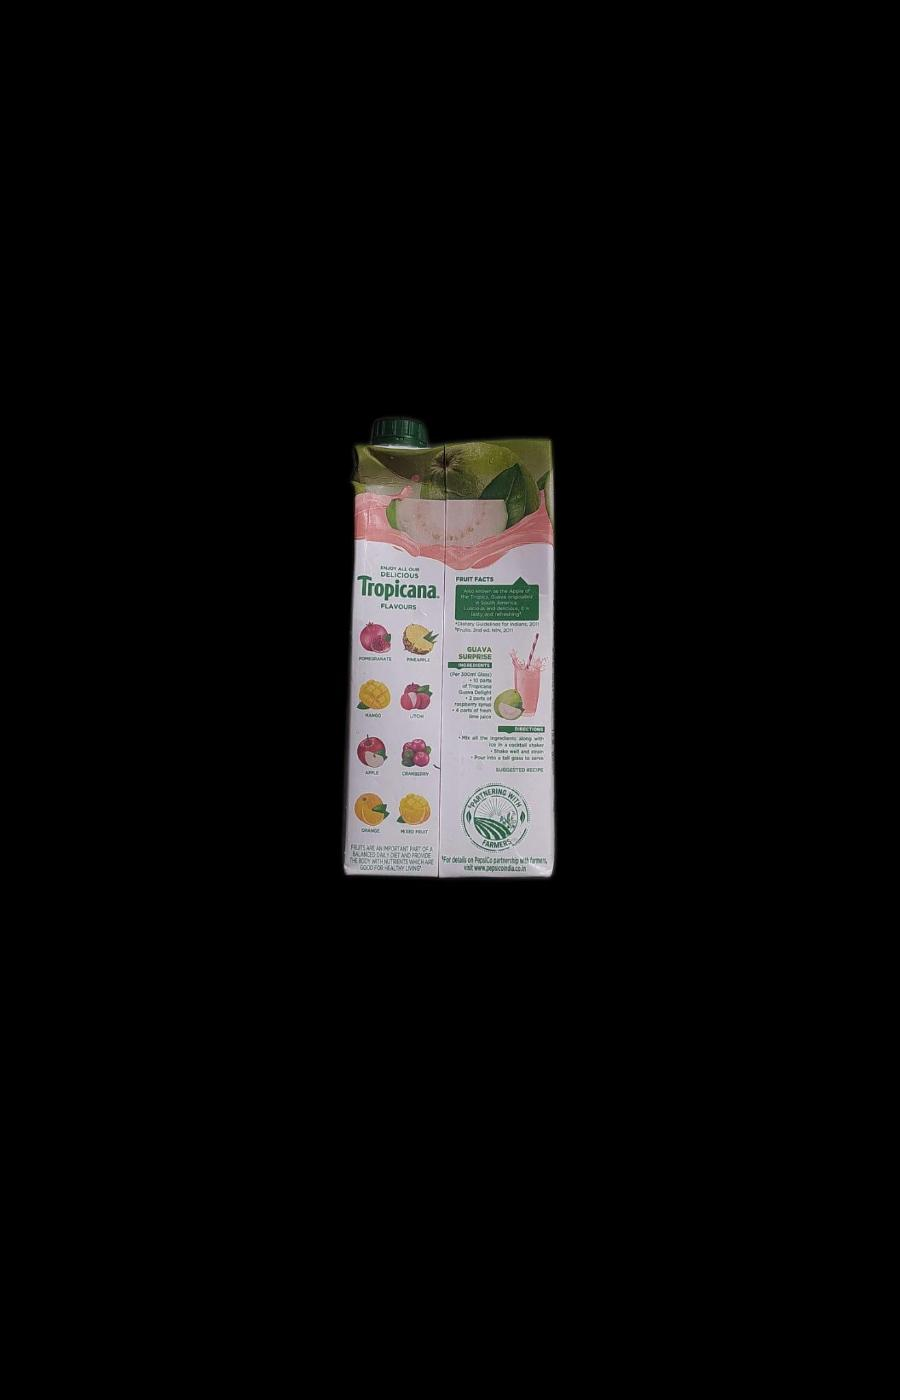Tropicana Fruit Juice - Delight Guava1 L: (336, 408, 562, 880)
